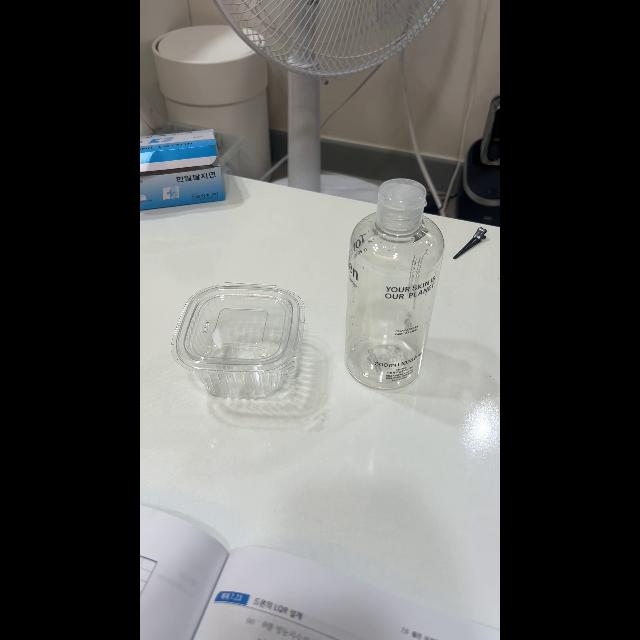clean: (344, 185, 444, 385), (176, 280, 306, 402)
